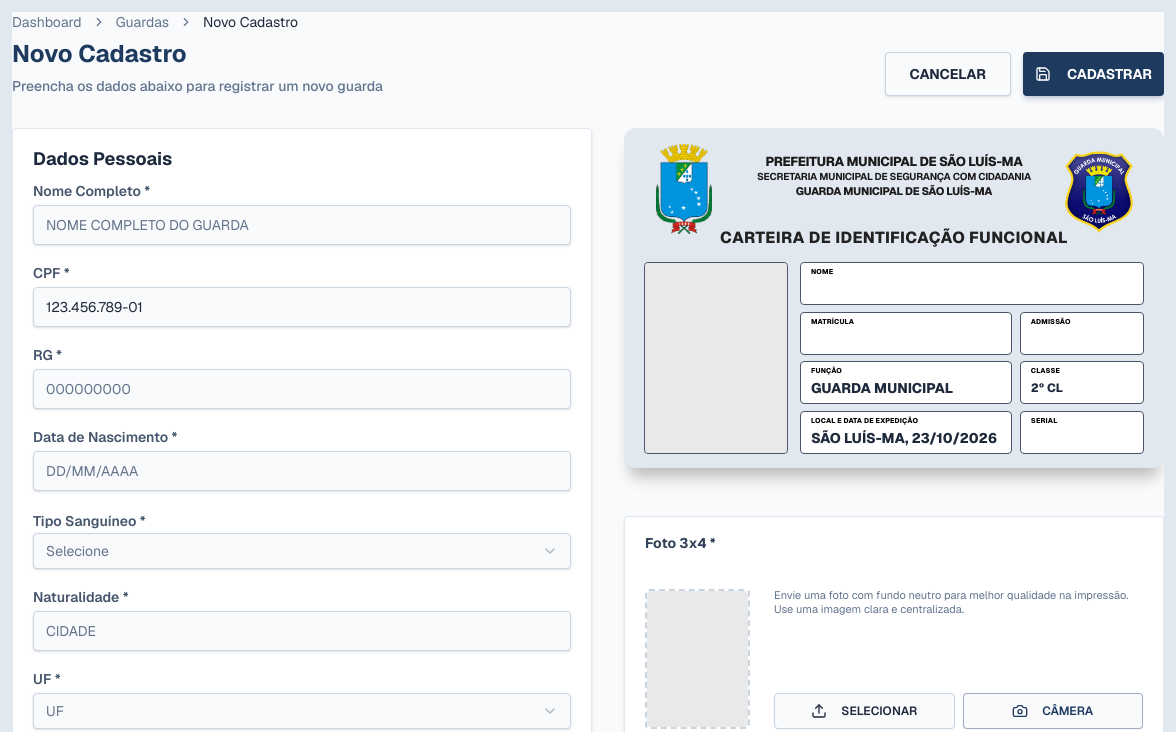
Test: GuardForm Field Limits and Masks › Date mask should work correctly
Type "01012000" into the field labelled "Data de Nascimento *" at (302, 471), box top-left (33, 451), bottom-right (571, 491)
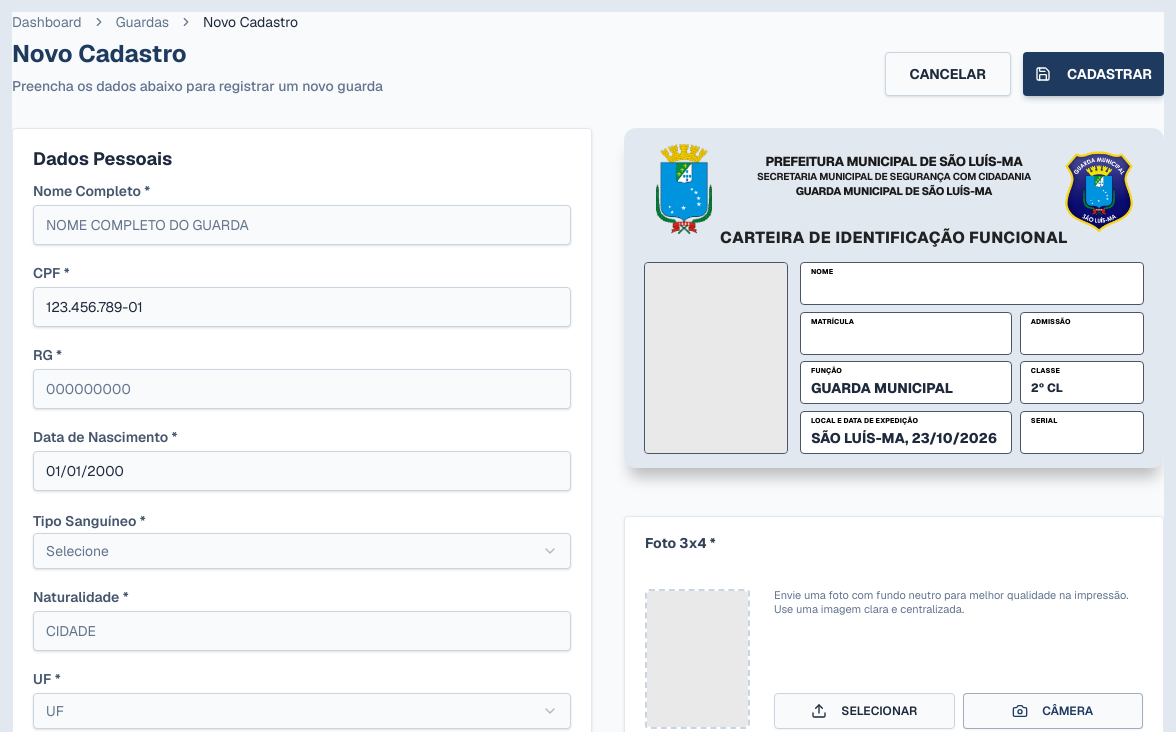
Expected: the field labelled "Data de Nascimento *" holds "01/01/2000", top-left (33, 451), bottom-right (571, 491)
